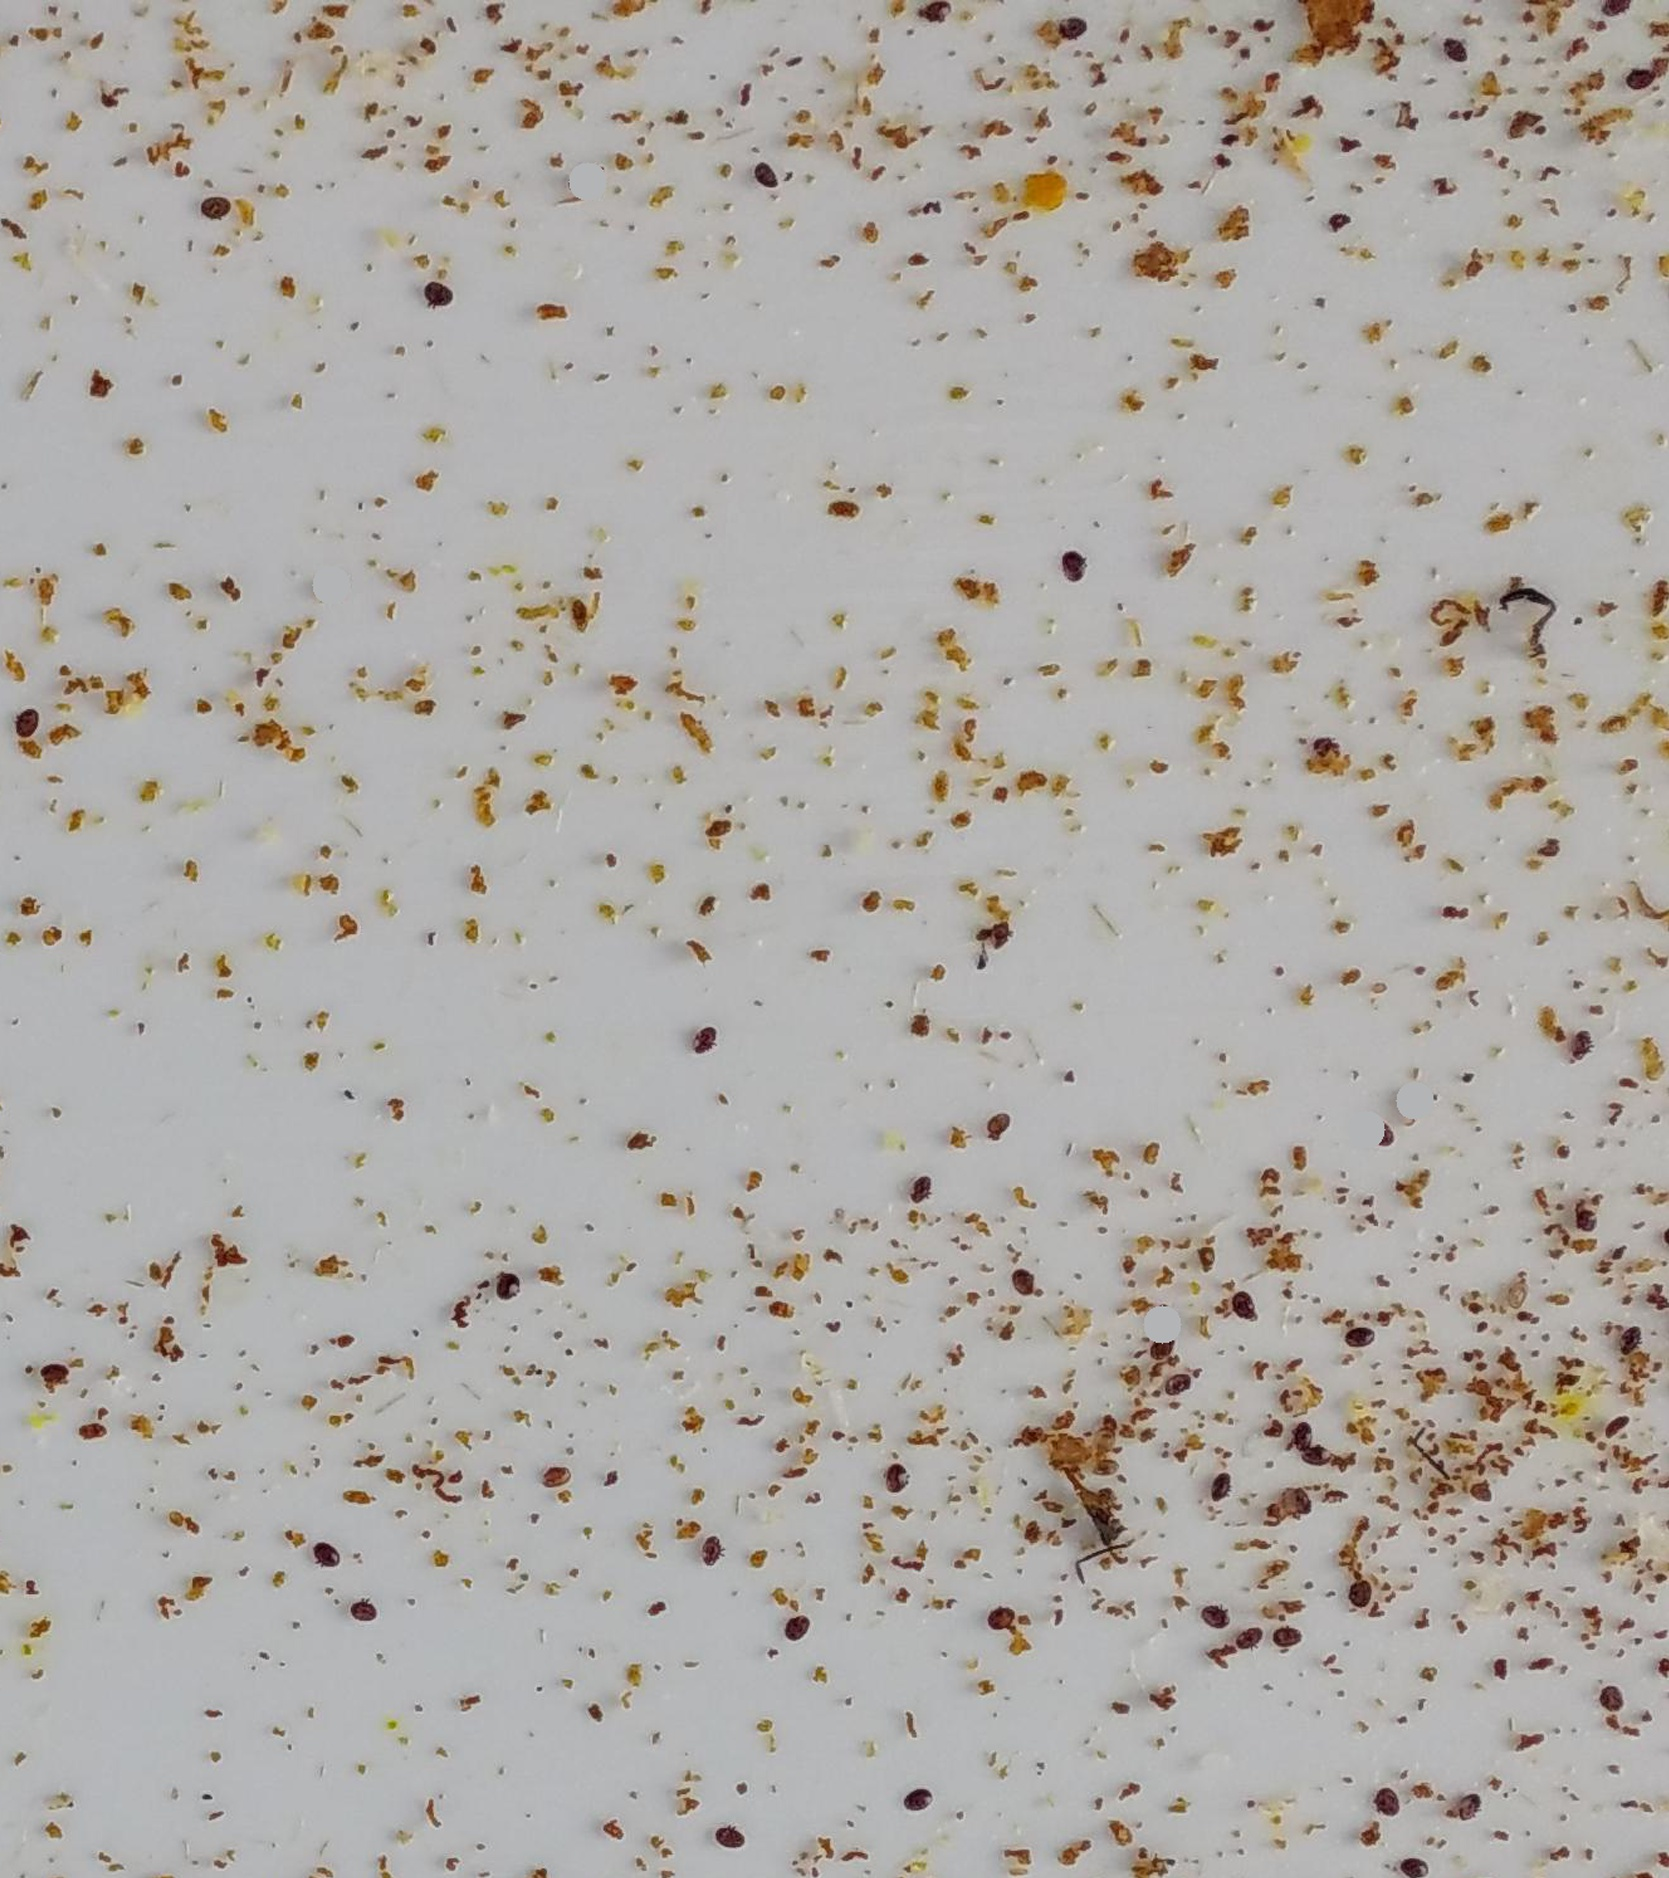Varroa: (1141, 1329, 1182, 1371), (1281, 1413, 1323, 1454), (1297, 1433, 1339, 1475), (1461, 1469, 1503, 1511), (1142, 1297, 1186, 1337), (1055, 549, 1092, 589), (425, 280, 462, 321), (904, 1783, 939, 1823), (707, 1810, 743, 1849), (200, 193, 235, 232), (1234, 1611, 1269, 1649), (1224, 1289, 1260, 1326), (1373, 1789, 1408, 1826), (873, 1459, 909, 1496), (983, 1111, 1018, 1148), (1147, 1338, 1181, 1377), (308, 1540, 343, 1575), (1200, 1467, 1236, 1503), (487, 1272, 520, 1309), (1339, 1574, 1373, 1611), (693, 1530, 727, 1567), (536, 1459, 570, 1496), (978, 920, 1012, 957), (40, 1371, 74, 1408), (775, 1607, 809, 1643), (1336, 1322, 1371, 1356), (6, 714, 42, 747), (1437, 42, 1471, 77), (1290, 1424, 1324, 1459), (1197, 1606, 1232, 1640), (1157, 1363, 1191, 1398), (984, 1606, 1021, 1638), (351, 1591, 383, 1628), (1005, 1263, 1037, 1300), (1569, 1198, 1601, 1235), (1626, 72, 1658, 110), (1373, 1118, 1406, 1152), (901, 1176, 934, 1210), (748, 158, 780, 193), (1453, 1781, 1485, 1817), (1269, 1620, 1302, 1656), (1593, 1682, 1626, 1715), (34, 1353, 68, 1385), (1563, 1020, 1595, 1053), (1609, 1324, 1643, 1355), (1054, 16, 1086, 47), (1303, 739, 1336, 770), (686, 1024, 719, 1053)
